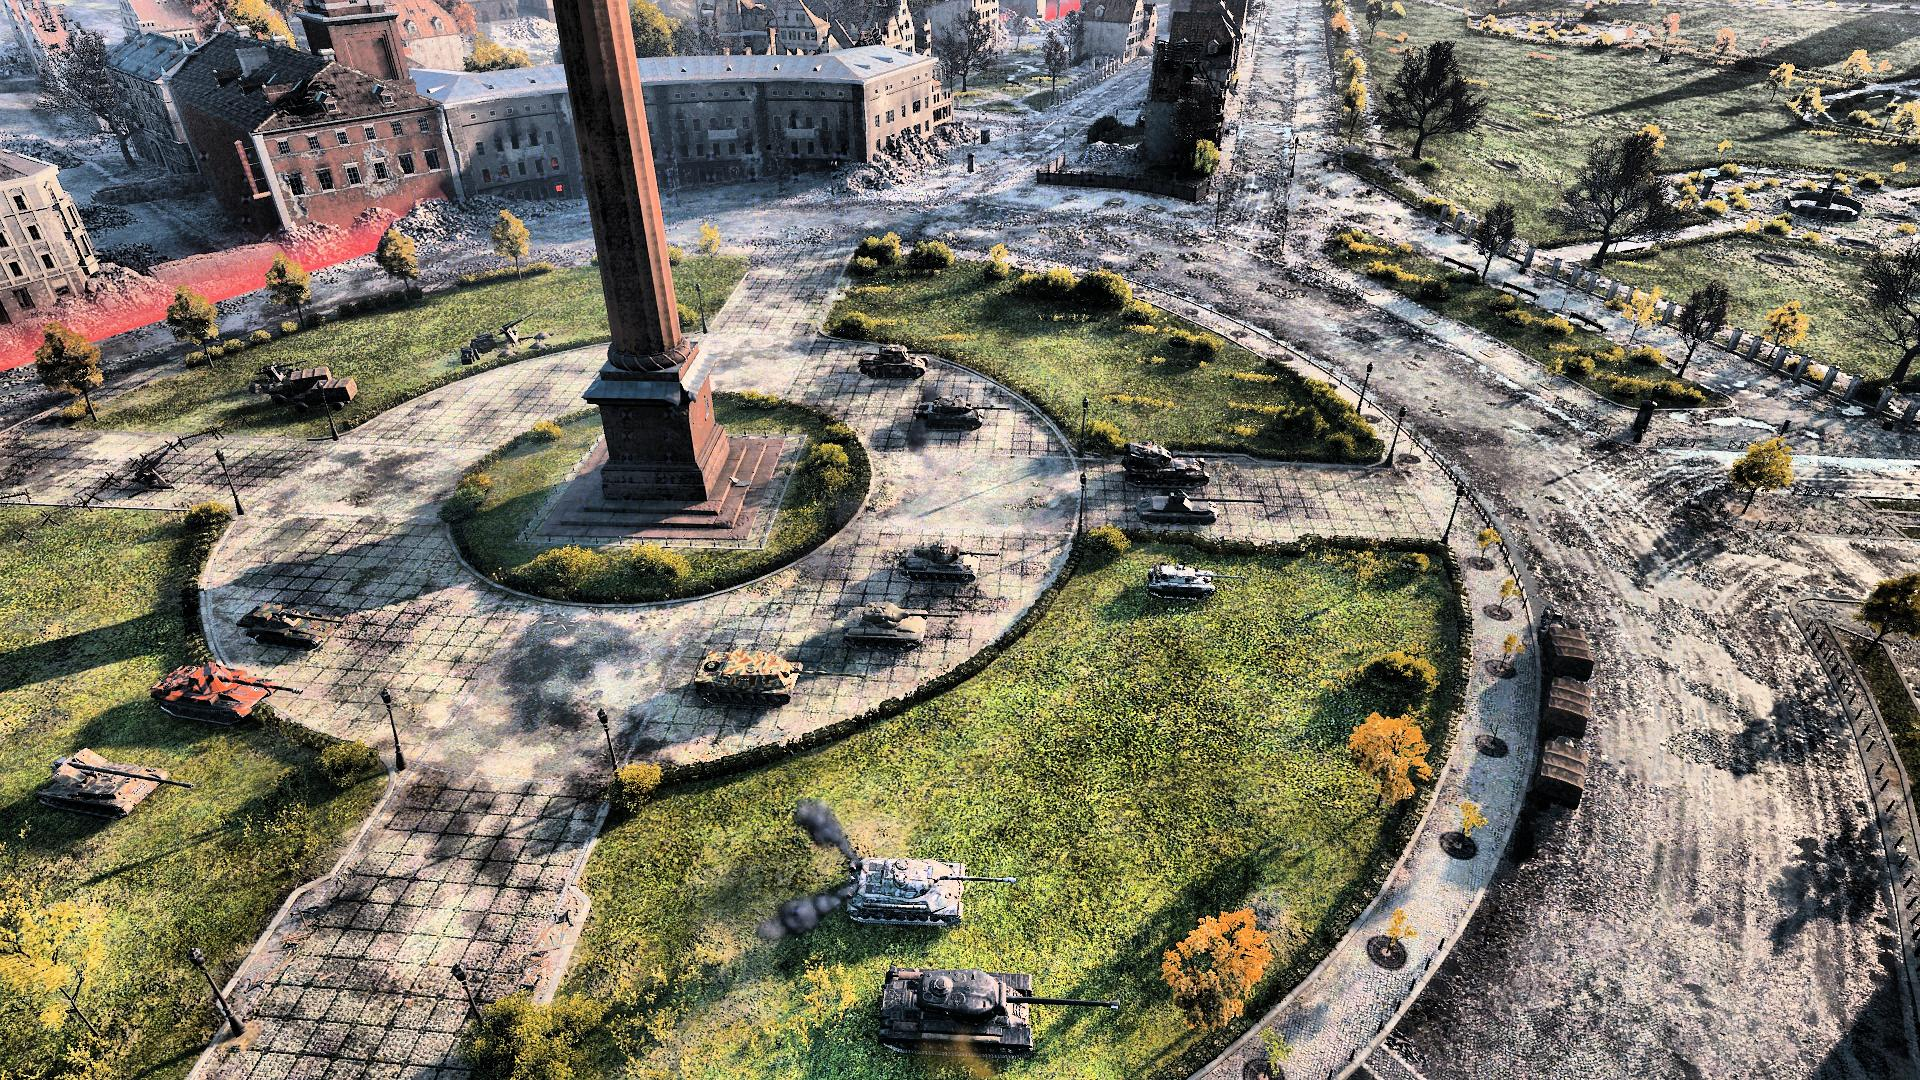military-vehicle: (878, 964, 1130, 1055), (24, 744, 187, 823), (844, 853, 1022, 918), (150, 658, 305, 728), (699, 646, 844, 707), (840, 599, 963, 653), (235, 601, 360, 651), (897, 539, 1002, 588), (1124, 440, 1228, 489), (1135, 491, 1265, 526), (1147, 560, 1244, 599), (913, 397, 1010, 431), (858, 343, 934, 378)
